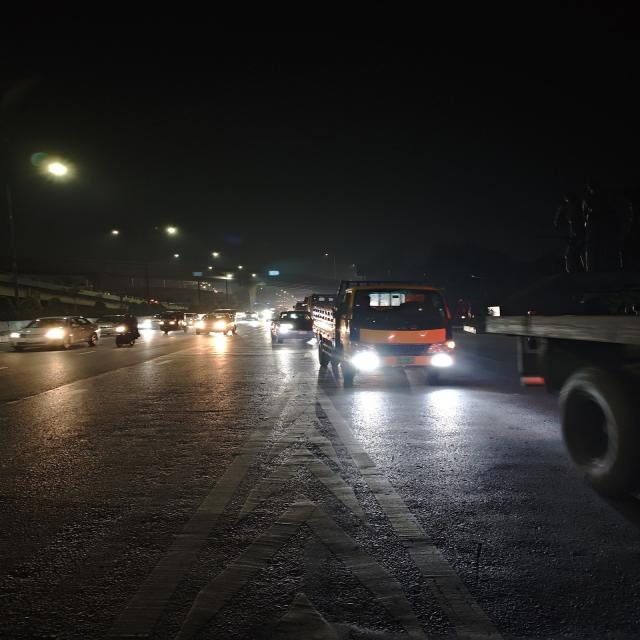car: (6, 314, 104, 354), (267, 308, 315, 344), (196, 310, 240, 336)
cng: (152, 310, 182, 333)
motorcycle: (110, 313, 144, 351)
pickup_van: (313, 282, 461, 386)
